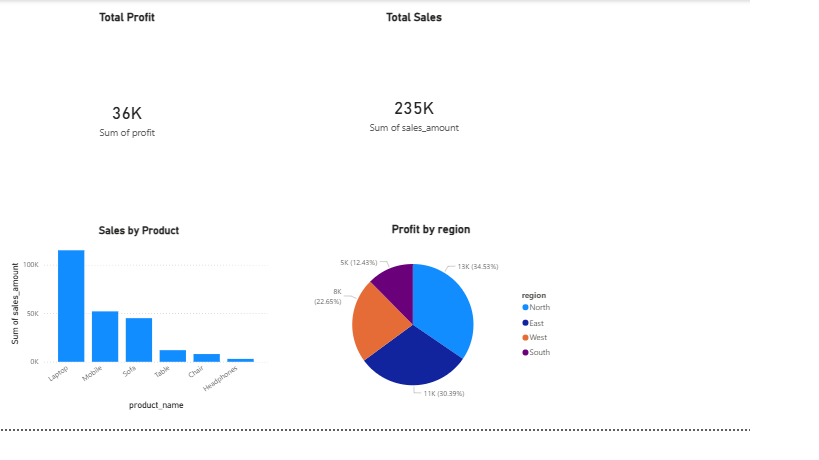

This screenshot's page, from the dashboard's own definition file:
{"tool":"powerbi","page":{"name":"Page 1","canvas":[1280,720],"ordinal":0},"visuals":[{"type":"clusteredColumnChart","title":"Sales by Product","fields":{"Category":["sales_data.product_name"],"Y":["Sum(sales_data.sales_amount)"]},"box":[13.4,376.3,443.5,317.5],"z":0},{"type":"pieChart","title":"Profit by region","fields":{"Category":["sales_data.region"],"Y":["Sum(sales_data.profit)"]},"box":[507.3,372.9,436.7,320.8],"z":1},{"type":"card","title":"Total Sales","fields":{"Values":["Sum(sales_data.sales_amount)"]},"box":[507.3,16.8,379.6,322.5],"z":2},{"type":"card","title":"Total Profit","fields":{"Values":["Sum(sales_data.profit)"]},"box":[0,16.8,430,337.6],"z":3}]}

Visuals, with their boxes in screenshot pixels (x1, y1, x2, y2), scaled from the page's 1280x720 canvas onto the 819x460 screenshot:
"Sales by Product" clusteredColumnChart: bbox(9, 240, 292, 443)
"Profit by region" pieChart: bbox(325, 238, 604, 443)
"Total Sales" card: bbox(325, 11, 567, 217)
"Total Profit" card: bbox(0, 11, 275, 226)
